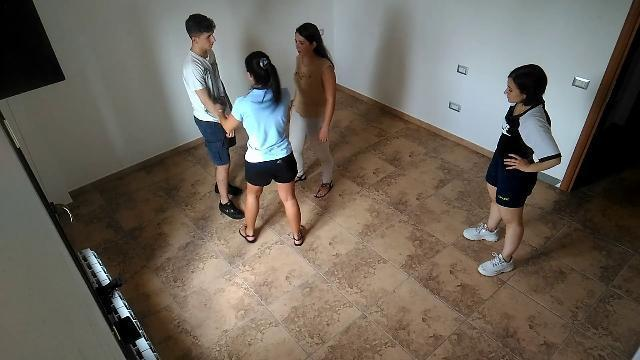non-violence: (461, 62, 564, 279), (285, 21, 339, 201)
violence: (180, 12, 306, 246)
